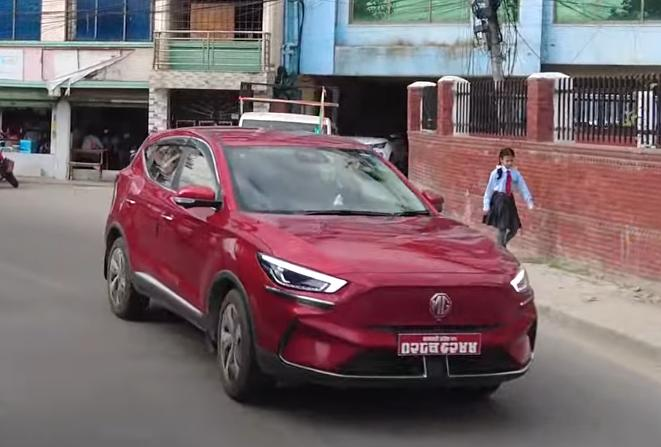car: (101, 127, 542, 407)
